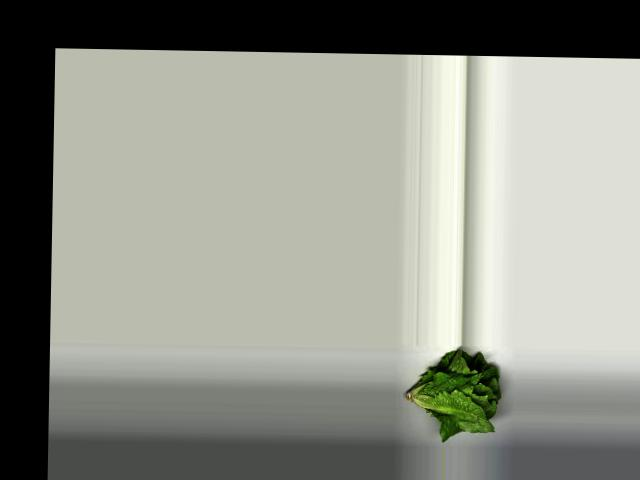lettuce: (402, 348, 502, 442)
